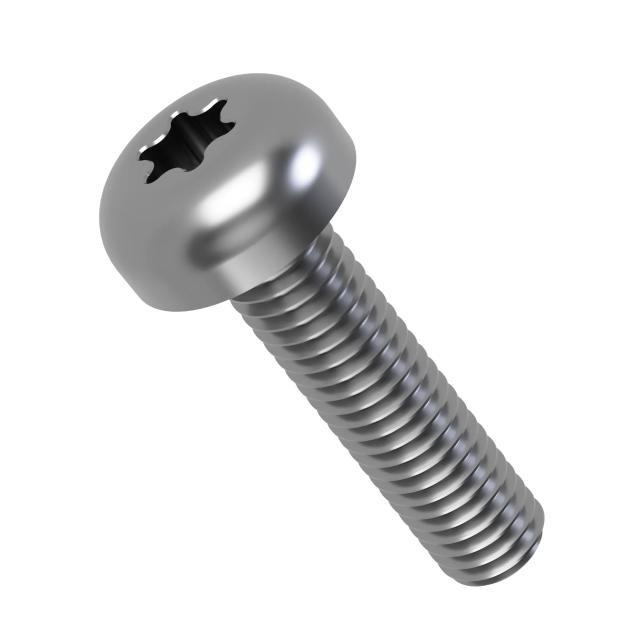torx: (95, 51, 358, 322)
